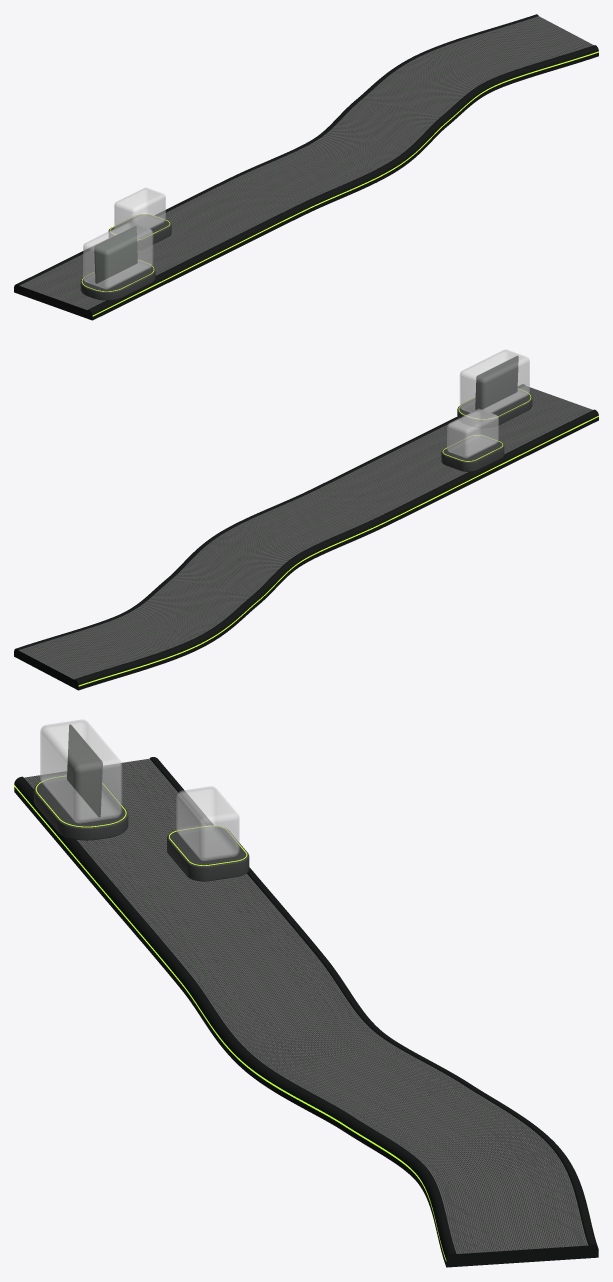
Rendered from sample.glb.
The picture shows the model from 3 angles, top to bottom: view 1: azimuth 30°, elevation 25°; view 2: azimuth 210°, elevation 25°; view 3: azimuth 270°, elevation 25°; orthographic projection. The views are drawn at different scales.
Parts seen in each view (by area): view 1: Belt_Plate, Belt_Rim, Product_Glass, Product_Base, Station01_Glass, Product_Screen, Station01_Base, Belt_NeonNear, Belt_Caps; view 2: Belt_Plate, Belt_Rim, Product_Glass, Station01_Glass, Station01_Base, Product_Base, Product_Device, Belt_NeonFar, Belt_Caps; view 3: Belt_Plate, Belt_Rim, Product_Glass, Product_Base, Station01_Glass, Station01_Base, Belt_Caps, Product_Screen, Belt_NeonNear.
Part boxes in pixels (<box>): Belt_Plate: <box>19,16,593,309</box>; Belt_Rim: <box>16,14,598,319</box>; Product_Glass: <box>83,222,152,288</box>; Product_Base: <box>80,261,155,300</box>; Station01_Glass: <box>114,188,165,228</box>; Product_Screen: <box>95,227,137,282</box>; Station01_Base: <box>108,214,171,250</box>; Belt_NeonNear: <box>92,51,598,316</box>; Belt_Caps: <box>14,284,92,320</box>; Belt_Plate: <box>19,386,592,679</box>; Belt_Rim: <box>16,384,598,690</box>; Product_Glass: <box>460,349,529,413</box>; Station01_Glass: <box>447,409,498,457</box>; Station01_Base: <box>441,435,504,471</box>; Product_Base: <box>457,389,532,427</box>; Product_Device: <box>475,355,518,411</box>; Belt_NeonFar: <box>78,415,598,686</box>; Belt_Caps: <box>14,648,78,689</box>; Belt_Plate: <box>24,758,588,1253</box>; Belt_Rim: <box>14,757,597,1266</box>; Product_Glass: <box>40,719,121,822</box>; Product_Base: <box>34,776,128,840</box>; Station01_Glass: <box>176,786,239,860</box>; Station01_Base: <box>167,826,249,881</box>; Belt_Caps: <box>446,1244,598,1267</box>; Product_Screen: <box>67,726,100,815</box>; Belt_NeonNear: <box>14,785,446,1261</box>.
Bounding box in the file's own units: 35.13 × 2.8 × 17.45.
9 materials, 1 textured.
